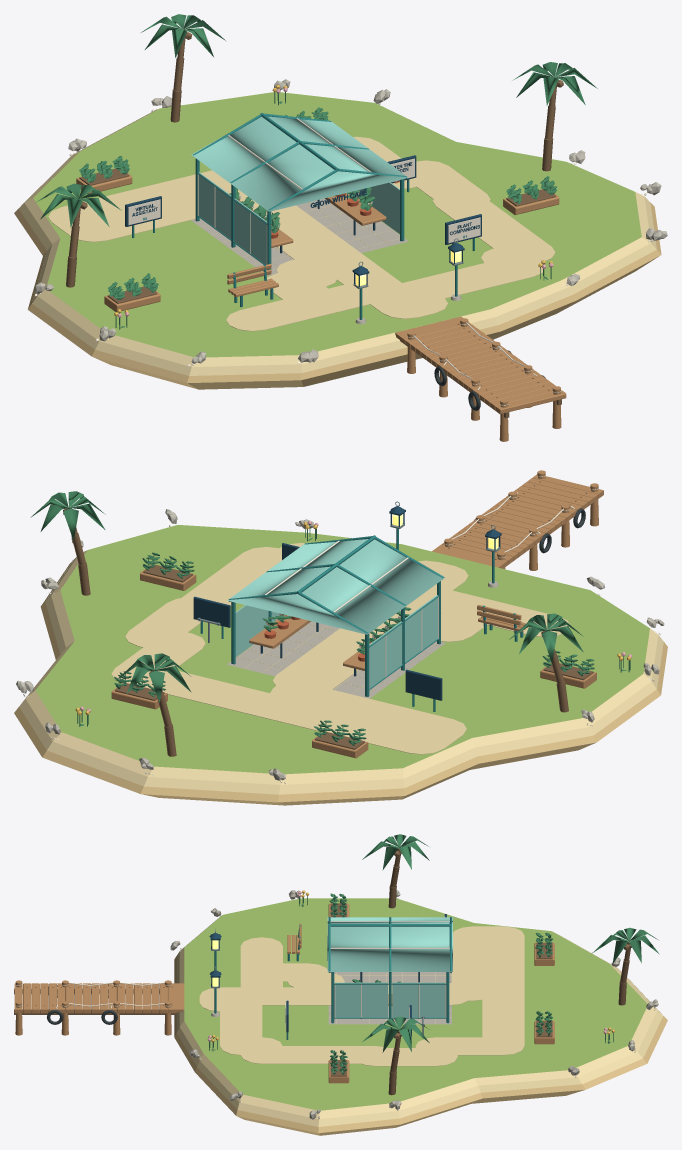
File: visionx.glb
3 renders of one model, top to bottom at view 1: azimuth 30°, elevation 25°; view 2: azimuth 150°, elevation 25°; view 3: azimuth 270°, elevation 25°, orthographic. The views are drawn at different scales.
Parts seen in each view (by area): view 1: static_grass, static_sand, static_wood, occluder_visionx_roof_glass, static_sandEdge, static_stone, static_glass, static_leaf, static_teal, occluder_visionx_roof_teal, occluder_visionx_tree_4_leaf, occluder_visionx_tree_8_leaf (+7 smaller); view 2: static_grass, static_sand, static_wood, occluder_visionx_roof_glass, static_sandEdge, static_stone, static_glass, static_leaf, static_teal, static_darkWood, occluder_visionx_roof_teal, occluder_visionx_tree_12_leaf (+9 smaller); view 3: static_grass, static_sand, static_wood, occluder_visionx_roof_glass, static_sandEdge, static_glass, static_stone, static_leaf, static_teal, static_darkWood, occluder_visionx_tree_4_leaf, occluder_visionx_tree_12_leaf (+3 smaller).
Part boxes in pixels (x1,y1,x2,y2): static_grass: (33,92,641,357); static_sand: (18,109,656,375); static_wood: (76,173,566,441); occluder_visionx_roof_glass: (191,116,408,211); static_sandEdge: (14,202,661,389); static_stone: (34,79,667,363); static_glass: (198,172,399,264); static_leaf: (79,92,556,329); static_teal: (195,158,457,319); occluder_visionx_roof_teal: (193,113,406,212); occluder_visionx_tree_4_leaf: (35,183,121,227); occluder_visionx_tree_8_leaf: (141,14,226,57); static_grass: (35,525,649,774); static_sand: (19,543,663,794); static_wood: (111,470,603,758); occluder_visionx_roof_glass: (227,539,445,634); static_sandEdge: (14,560,667,805); static_stone: (16,509,664,780); static_glass: (235,595,438,688); static_leaf: (77,525,630,745); static_teal: (231,528,523,696); static_darkWood: (115,477,593,749); occluder_visionx_roof_teal: (228,535,443,635); occluder_visionx_tree_12_leaf: (30,491,105,540); static_grass: (184,898,647,1110); static_sand: (176,916,662,1126); static_wood: (14,903,554,1083); occluder_visionx_roof_glass: (327,917,452,971); static_sandEdge: (174,956,667,1135); static_glass: (334,982,445,1017); static_stone: (170,890,658,1119); static_leaf: (209,893,613,1074); static_teal: (214,925,449,1023); static_darkWood: (14,903,552,1076); occluder_visionx_tree_4_leaf: (362,834,429,870); occluder_visionx_tree_12_leaf: (362,1016,429,1052).
Size of the model in its own units: 26.09 by 5.52 by 31.8.
